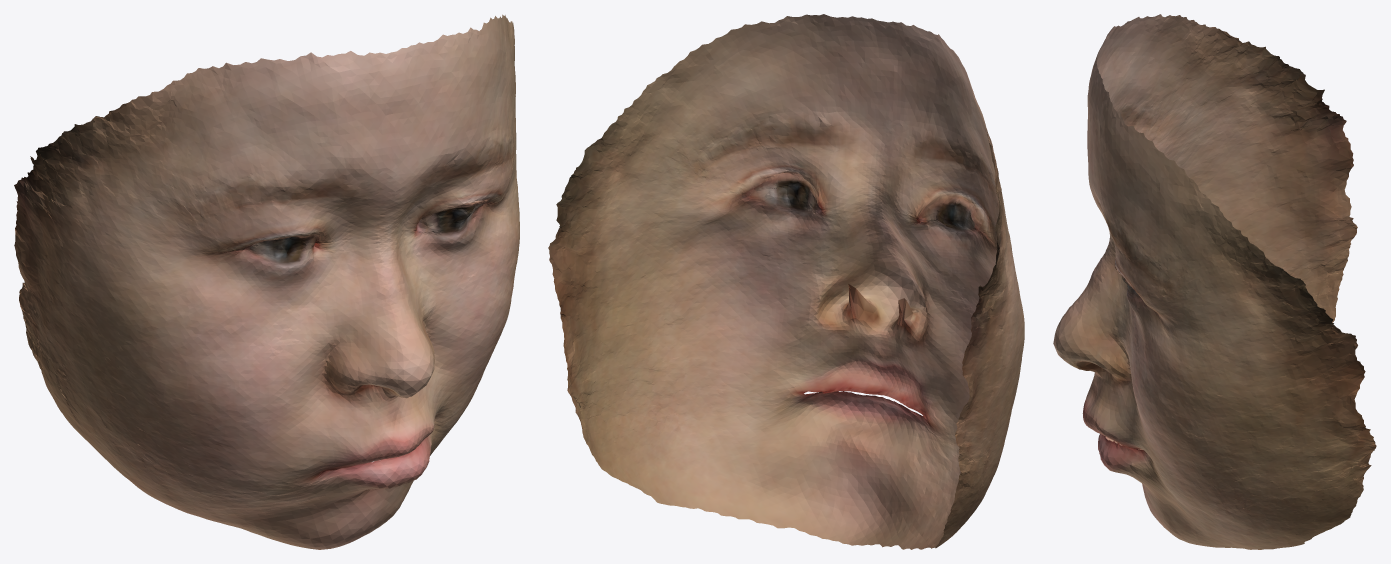
3 renders of one model, left to right at view 1: azimuth 30°, elevation 25°; view 2: azimuth 150°, elevation 25°; view 3: azimuth 270°, elevation 25°, orthographic. The views are drawn at different scales.
Bounding box in the file's own units: 1.52 × 1.67 × 1.02.
